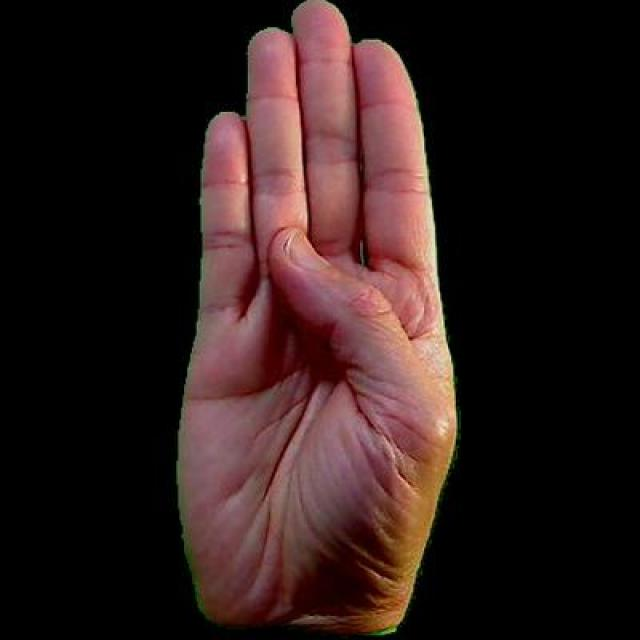b: (150, 0, 460, 637)
